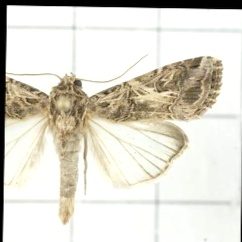Spodoptera litura: (4, 52, 221, 229)
